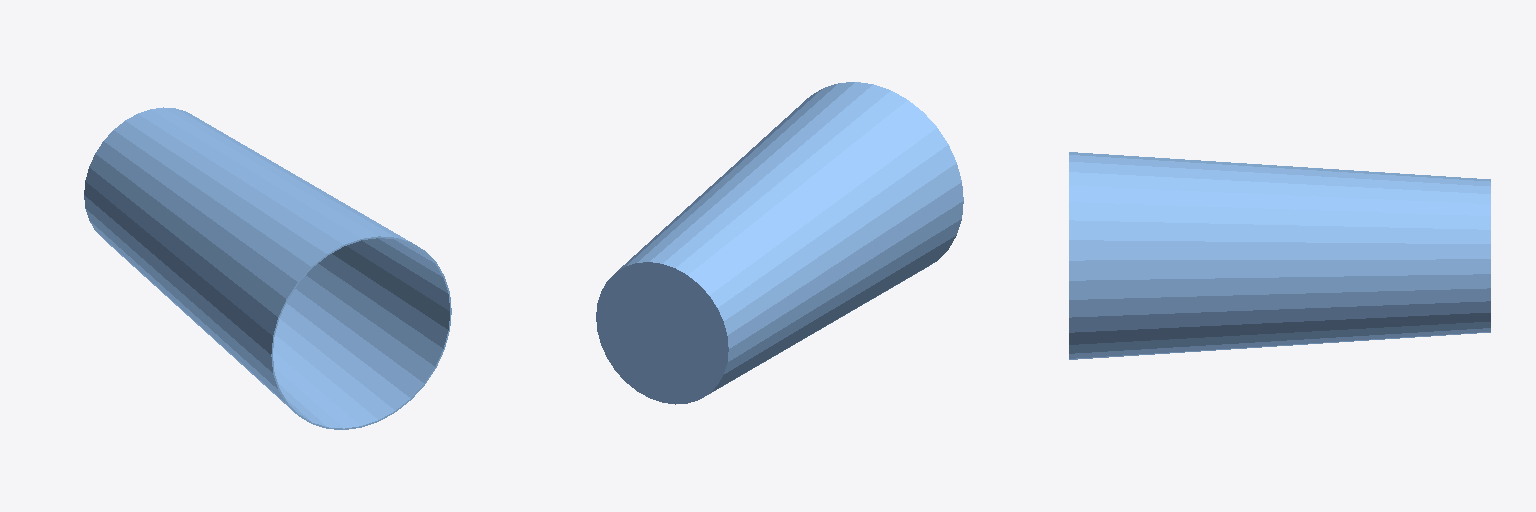
Rendered from glass_new.obj.
3 views of the same model, side by side, from view 1: azimuth 30°, elevation 25°; view 2: azimuth 150°, elevation 25°; view 3: azimuth 270°, elevation 25° (orthographic).
Visible parts, largest first — view 1: Cylinder_Cylinder.003; view 2: Cylinder_Cylinder.003; view 3: Cylinder_Cylinder.003.
Boxes of the visible parts, <box> form: Cylinder_Cylinder.003: <box>84,107,451,429</box>; Cylinder_Cylinder.003: <box>596,82,963,404</box>; Cylinder_Cylinder.003: <box>1069,152,1490,359</box>.
Size of the model in its own units: 2.13 by 2.13 by 4.31.